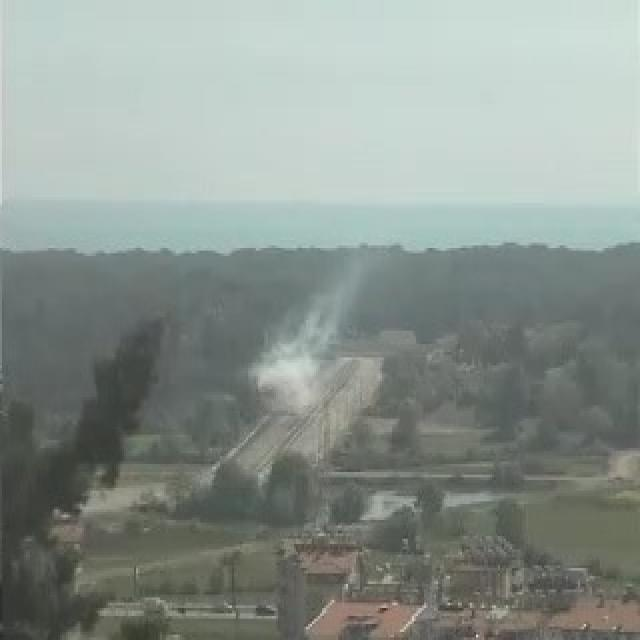smoke: (251, 297, 343, 411)
